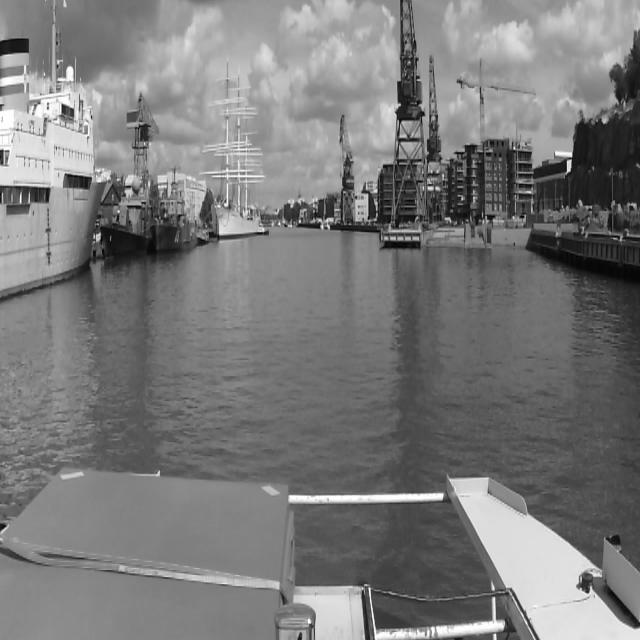ship: (0, 0, 100, 301), (210, 59, 260, 240), (104, 176, 150, 265), (151, 167, 194, 256), (320, 198, 330, 231)
